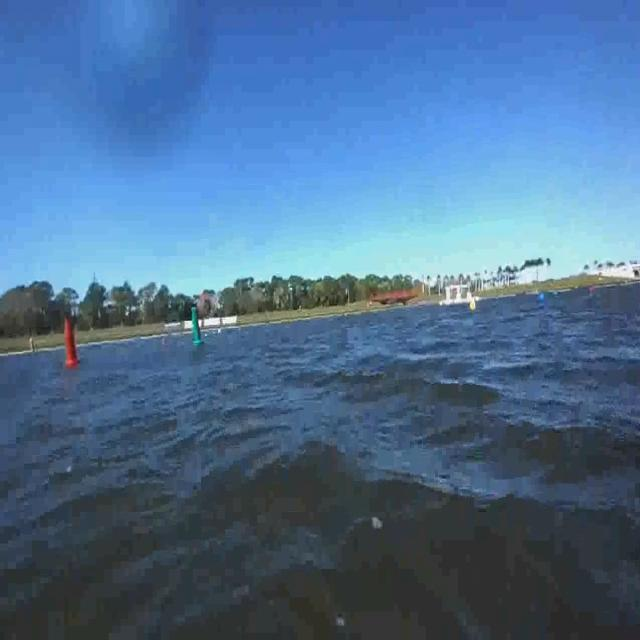green-column-buoy: (187, 291, 203, 350)
red-column-buoy: (57, 312, 80, 376)
